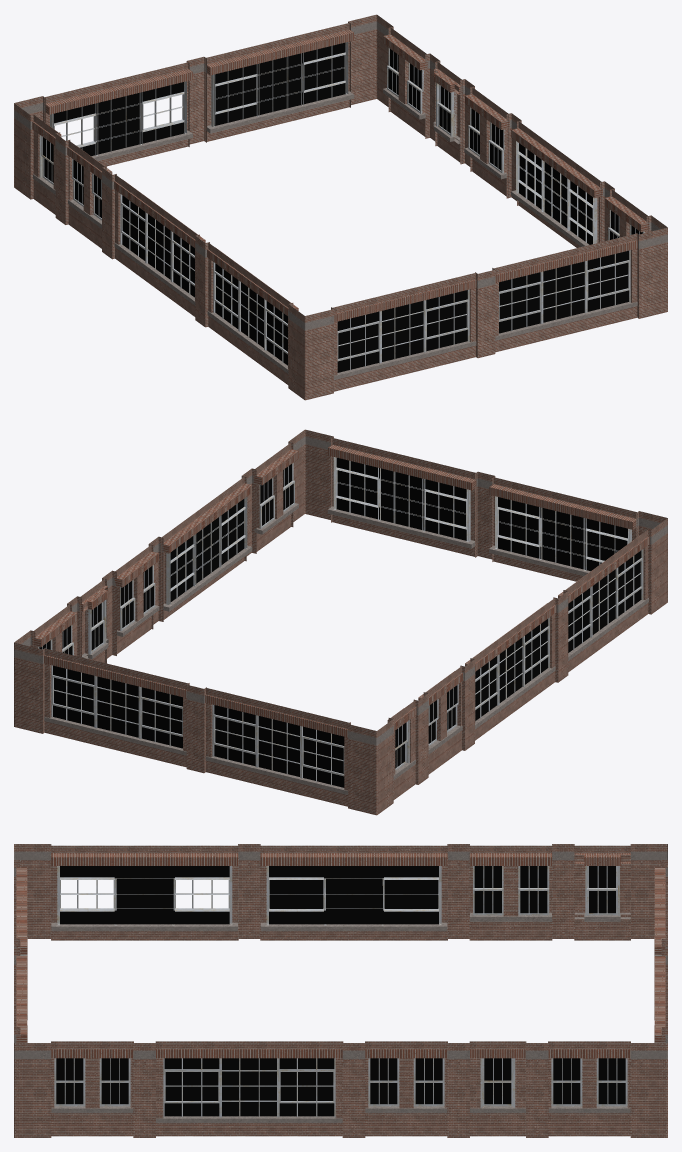
The model's file is BuildingE_Mid_Shell_VarA.fbx.
3 renders of one model, top to bottom at view 1: azimuth 30°, elevation 25°; view 2: azimuth 150°, elevation 25°; view 3: azimuth 270°, elevation 25°, orthographic. The views are drawn at different scales.
Parts seen in each view (by area): view 1: BuildingE_Mid_Shell_VarA; view 2: BuildingE_Mid_Shell_VarA; view 3: BuildingE_Mid_Shell_VarA.
Boxes of the visible parts, x1,y1,x2,y2 form: BuildingE_Mid_Shell_VarA: (14, 14, 667, 400); BuildingE_Mid_Shell_VarA: (14, 429, 667, 815); BuildingE_Mid_Shell_VarA: (14, 844, 667, 1137).
Bounding box in the file's own units: 1800 × 400 × 2500.
